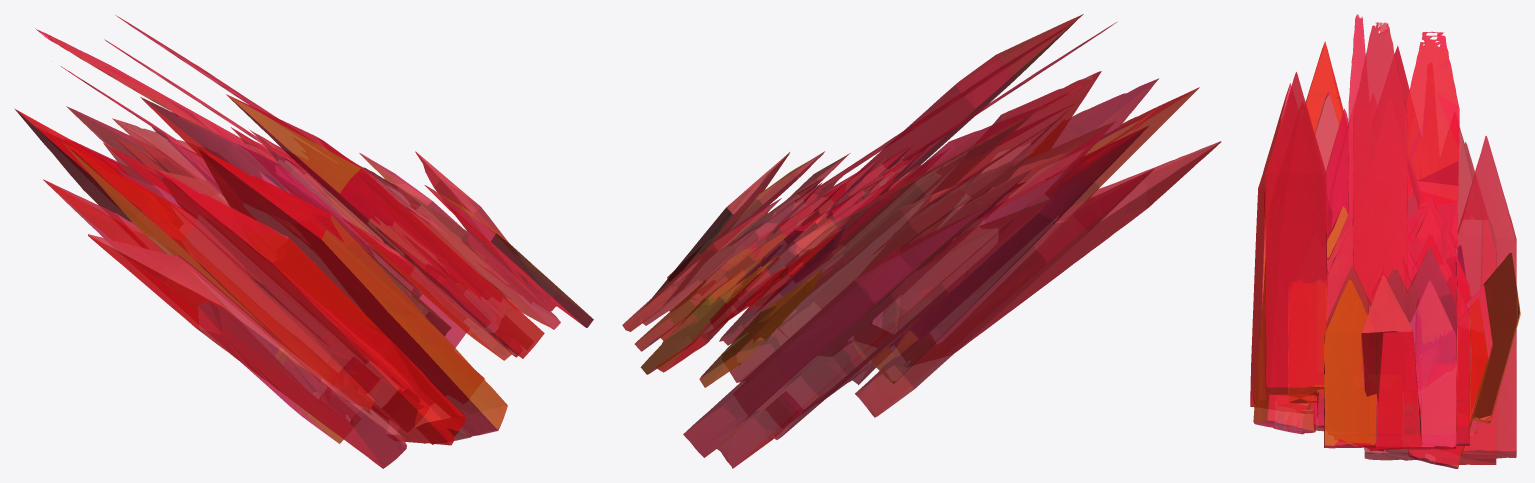
File: DragonSpawn_Crystal3.glb
The picture shows the model from 3 angles, left to right: view 1: azimuth 30°, elevation 25°; view 2: azimuth 150°, elevation 25°; view 3: azimuth 270°, elevation 25°; orthographic projection. The views are drawn at different scales.
Parts seen in each view (by area): view 1: Crystal3; view 2: Crystal3; view 3: Crystal3.
Part boxes in pixels (<box>): Crystal3: <box>14,15,593,468</box>; Crystal3: <box>622,14,1221,468</box>; Crystal3: <box>1250,14,1520,468</box>.
Size of the model in its own units: 20.93 by 18.15 by 12.91.
1 material, 1 textured.
